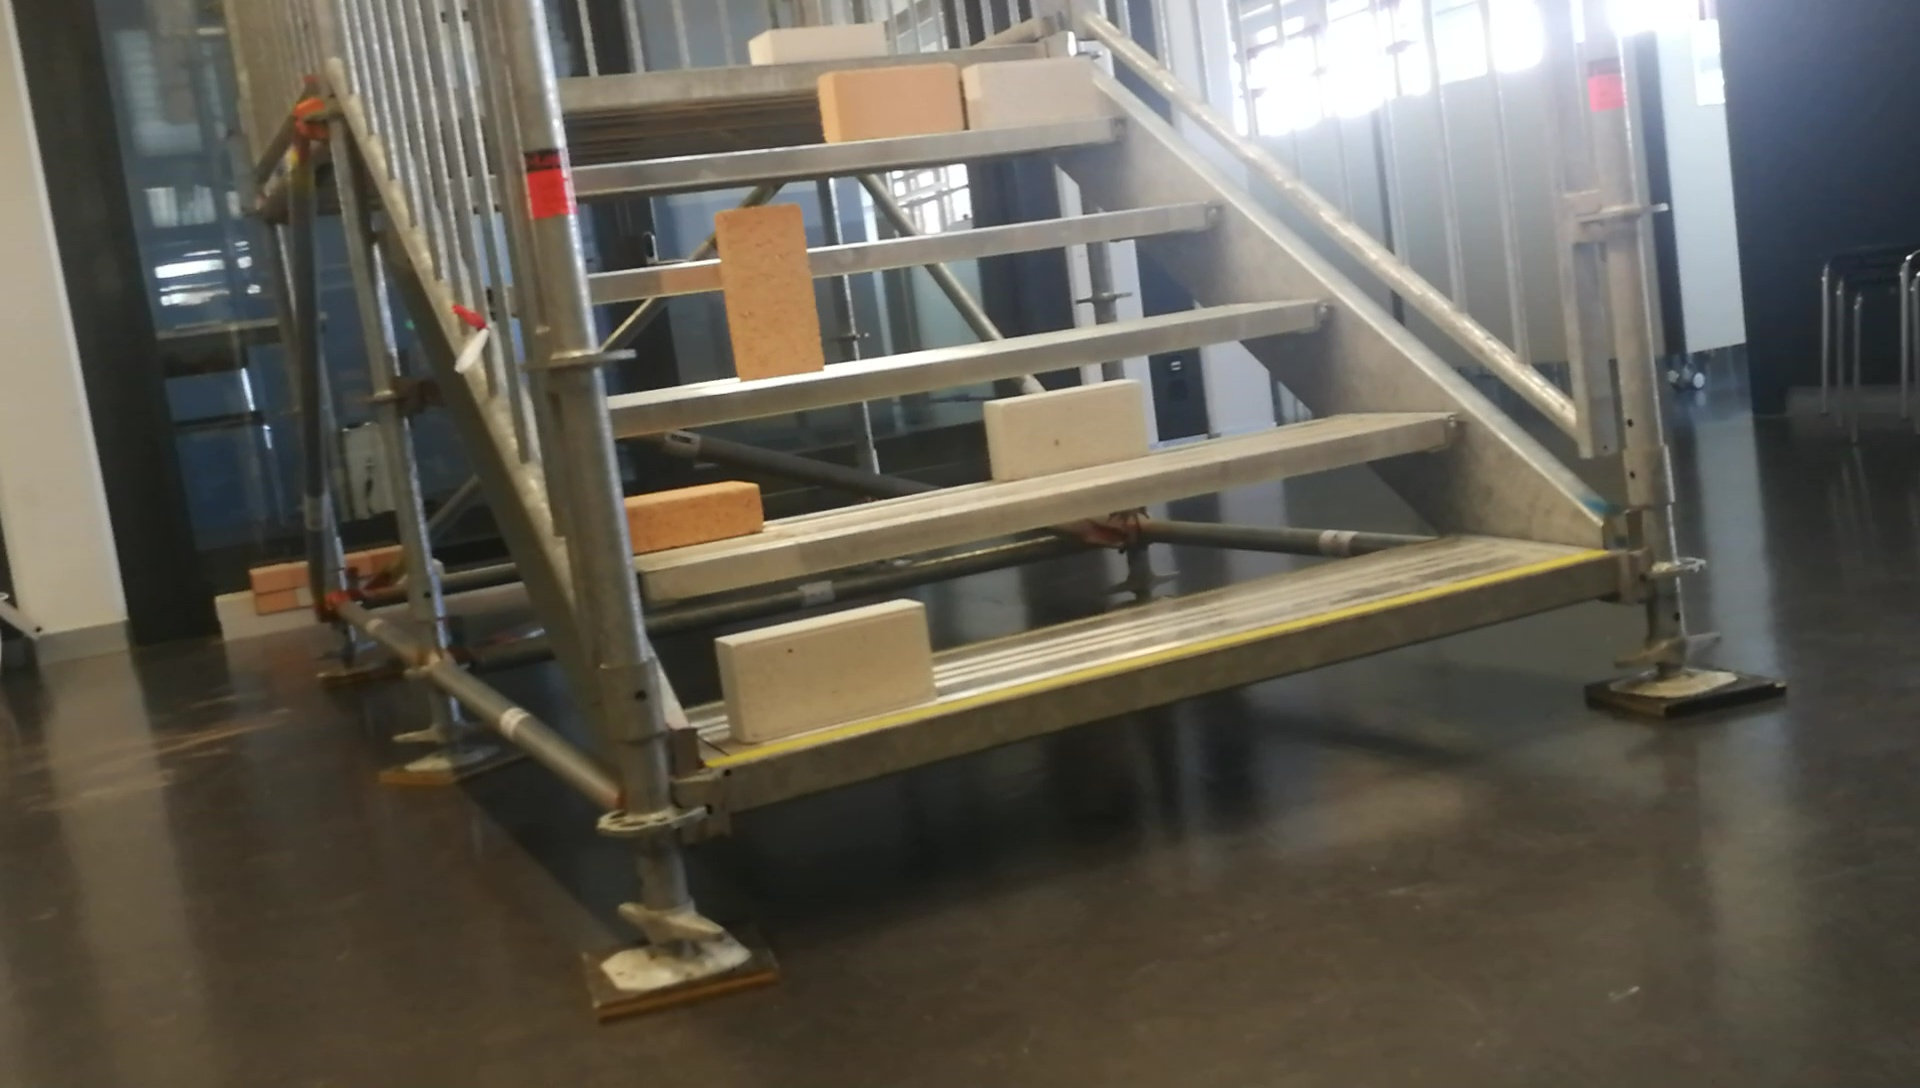brick: (712, 600, 932, 742), (715, 203, 822, 378), (986, 380, 1145, 477), (820, 66, 952, 142), (625, 480, 760, 553), (965, 61, 1095, 127), (746, 22, 881, 59)
edge: (713, 553, 1625, 814), (637, 415, 1455, 599), (609, 299, 1325, 438), (584, 200, 1222, 306), (570, 113, 1125, 193), (555, 45, 1036, 102)
stairs: (513, 5, 1791, 1013)
steps: (545, 15, 1638, 833)
